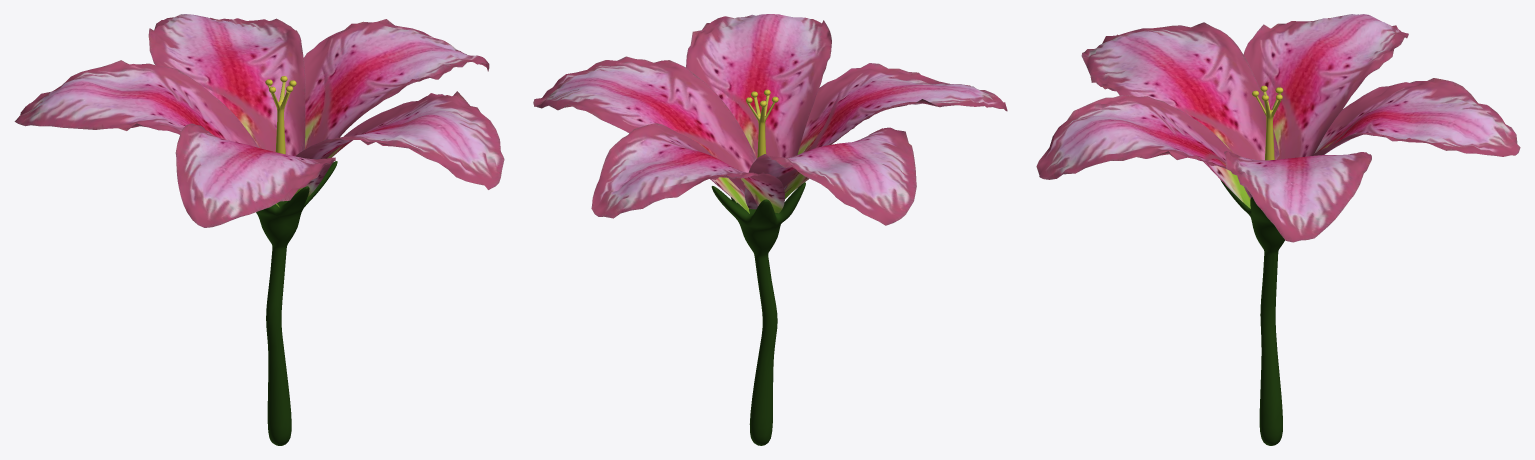
3 views of the same model, side by side, from view 1: azimuth 30°, elevation 25°; view 2: azimuth 150°, elevation 25°; view 3: azimuth 270°, elevation 25° (orthographic). The views are drawn at different scales.
Parts seen in each view (by area): view 1: Cylinder.001_Material.001_0, Cylinder.001_Material.002_0, Cylinder.001_Material.003_0; view 2: Cylinder.001_Material.001_0, Cylinder.001_Material.002_0, Cylinder.001_Material.003_0; view 3: Cylinder.001_Material.001_0, Cylinder.001_Material.002_0, Cylinder.001_Material.003_0.
Part boxes in pixels (box(x1,y1,x2,y2)): Cylinder.001_Material.001_0: box(14, 14, 504, 227); Cylinder.001_Material.002_0: box(256, 161, 337, 445); Cylinder.001_Material.003_0: box(265, 76, 296, 154); Cylinder.001_Material.001_0: box(533, 14, 1007, 225); Cylinder.001_Material.002_0: box(711, 182, 805, 445); Cylinder.001_Material.003_0: box(746, 89, 778, 157); Cylinder.001_Material.001_0: box(1036, 14, 1520, 242); Cylinder.001_Material.002_0: box(1220, 179, 1284, 445); Cylinder.001_Material.003_0: box(1252, 85, 1283, 160).
Bounding box in the file's own units: 5.85 × 4.82 × 5.89.
Materials: 3 (2 with a texture image).
